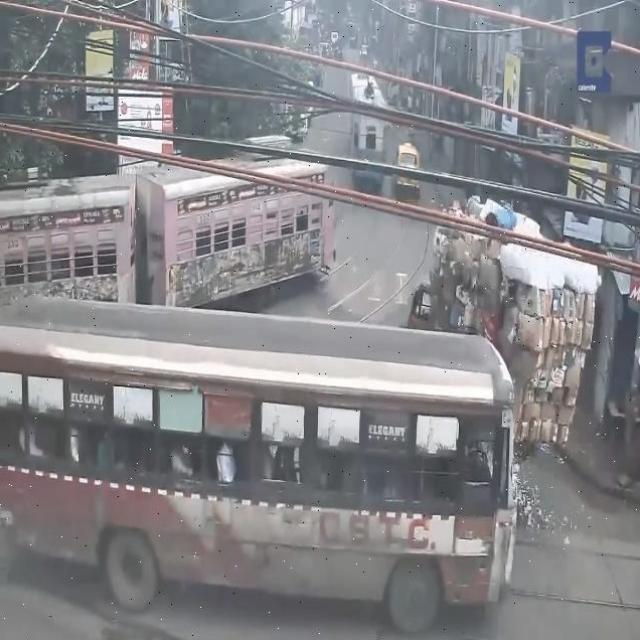accident: (398, 155, 582, 640)
